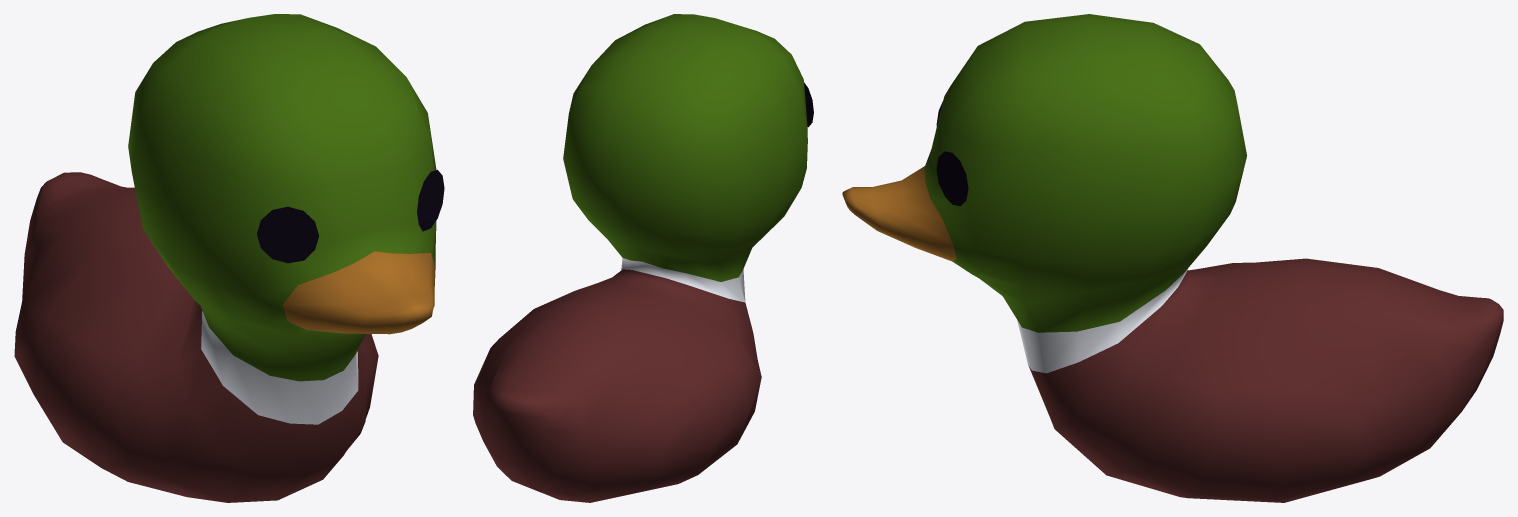
Rendered from Duck_Pond.fbx.
3 views of the same model, side by side, from view 1: azimuth 30°, elevation 25°; view 2: azimuth 150°, elevation 25°; view 3: azimuth 270°, elevation 25° (orthographic). The views are drawn at different scales.
Parts seen in each view (by area): view 1: Duck_Pond; view 2: Duck_Pond; view 3: Duck_Pond.
Boxes of the visible parts, box(x1,y1,x2,y2) form: Duck_Pond: box(14, 14, 444, 502); Duck_Pond: box(473, 14, 813, 502); Duck_Pond: box(842, 14, 1503, 502).
Bounding box in the file's own units: 76.94 × 124 × 165.
